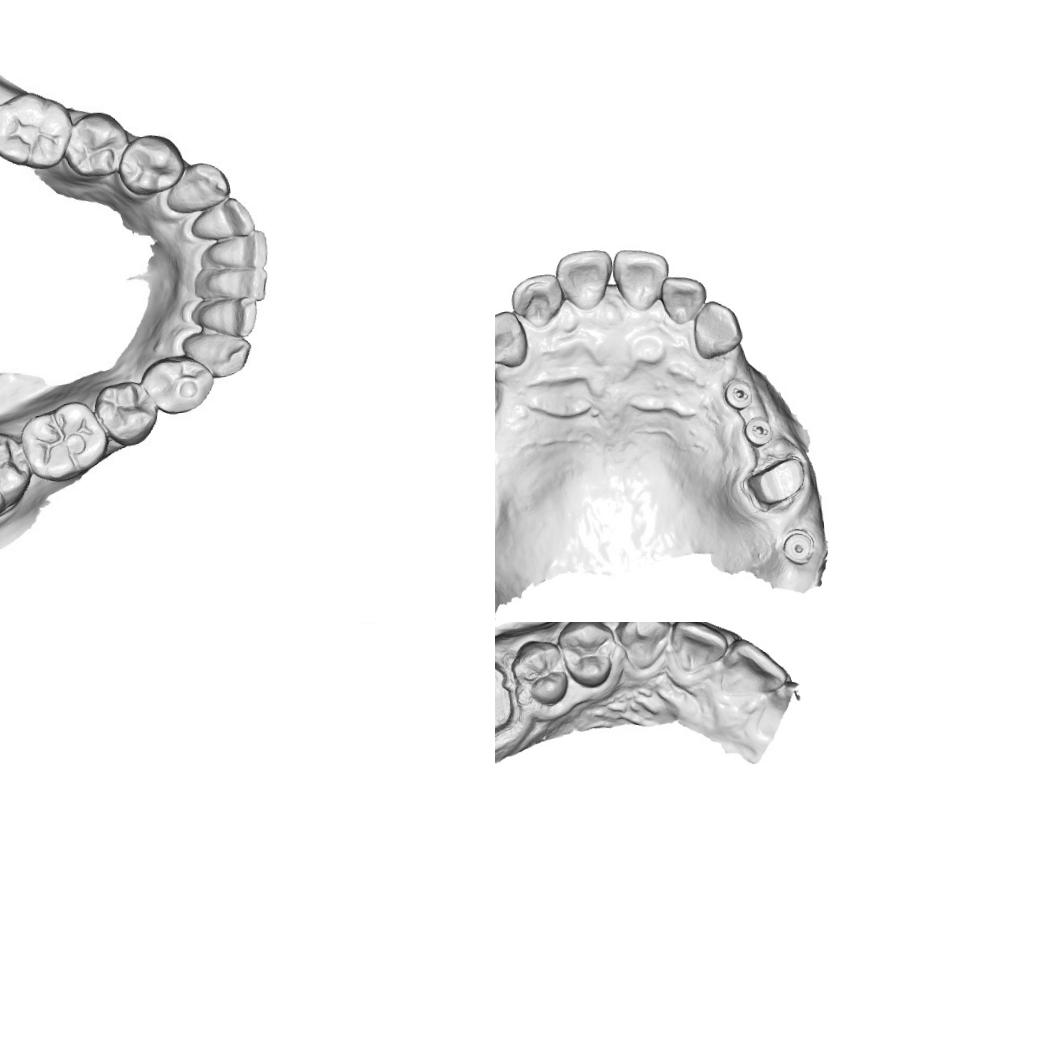canine: (162, 158, 234, 216), (176, 327, 254, 379), (690, 296, 745, 362), (611, 622, 675, 672), (495, 306, 529, 370)
crown: (740, 450, 810, 516), (495, 654, 518, 744)
implant: (778, 526, 818, 568)
implant_minus: (720, 376, 756, 413), (740, 412, 775, 449)
incisor: (717, 633, 790, 700), (552, 246, 616, 314), (609, 244, 672, 312), (507, 271, 566, 331), (189, 194, 258, 244), (669, 622, 729, 673), (201, 230, 272, 272), (201, 263, 272, 305), (198, 295, 262, 341), (658, 272, 708, 326)
molar: (17, 398, 110, 485), (0, 88, 76, 173), (0, 430, 35, 524)
premolar: (60, 109, 132, 182), (92, 376, 160, 446), (114, 132, 185, 198), (507, 634, 568, 710), (143, 354, 213, 417), (554, 622, 617, 692)
